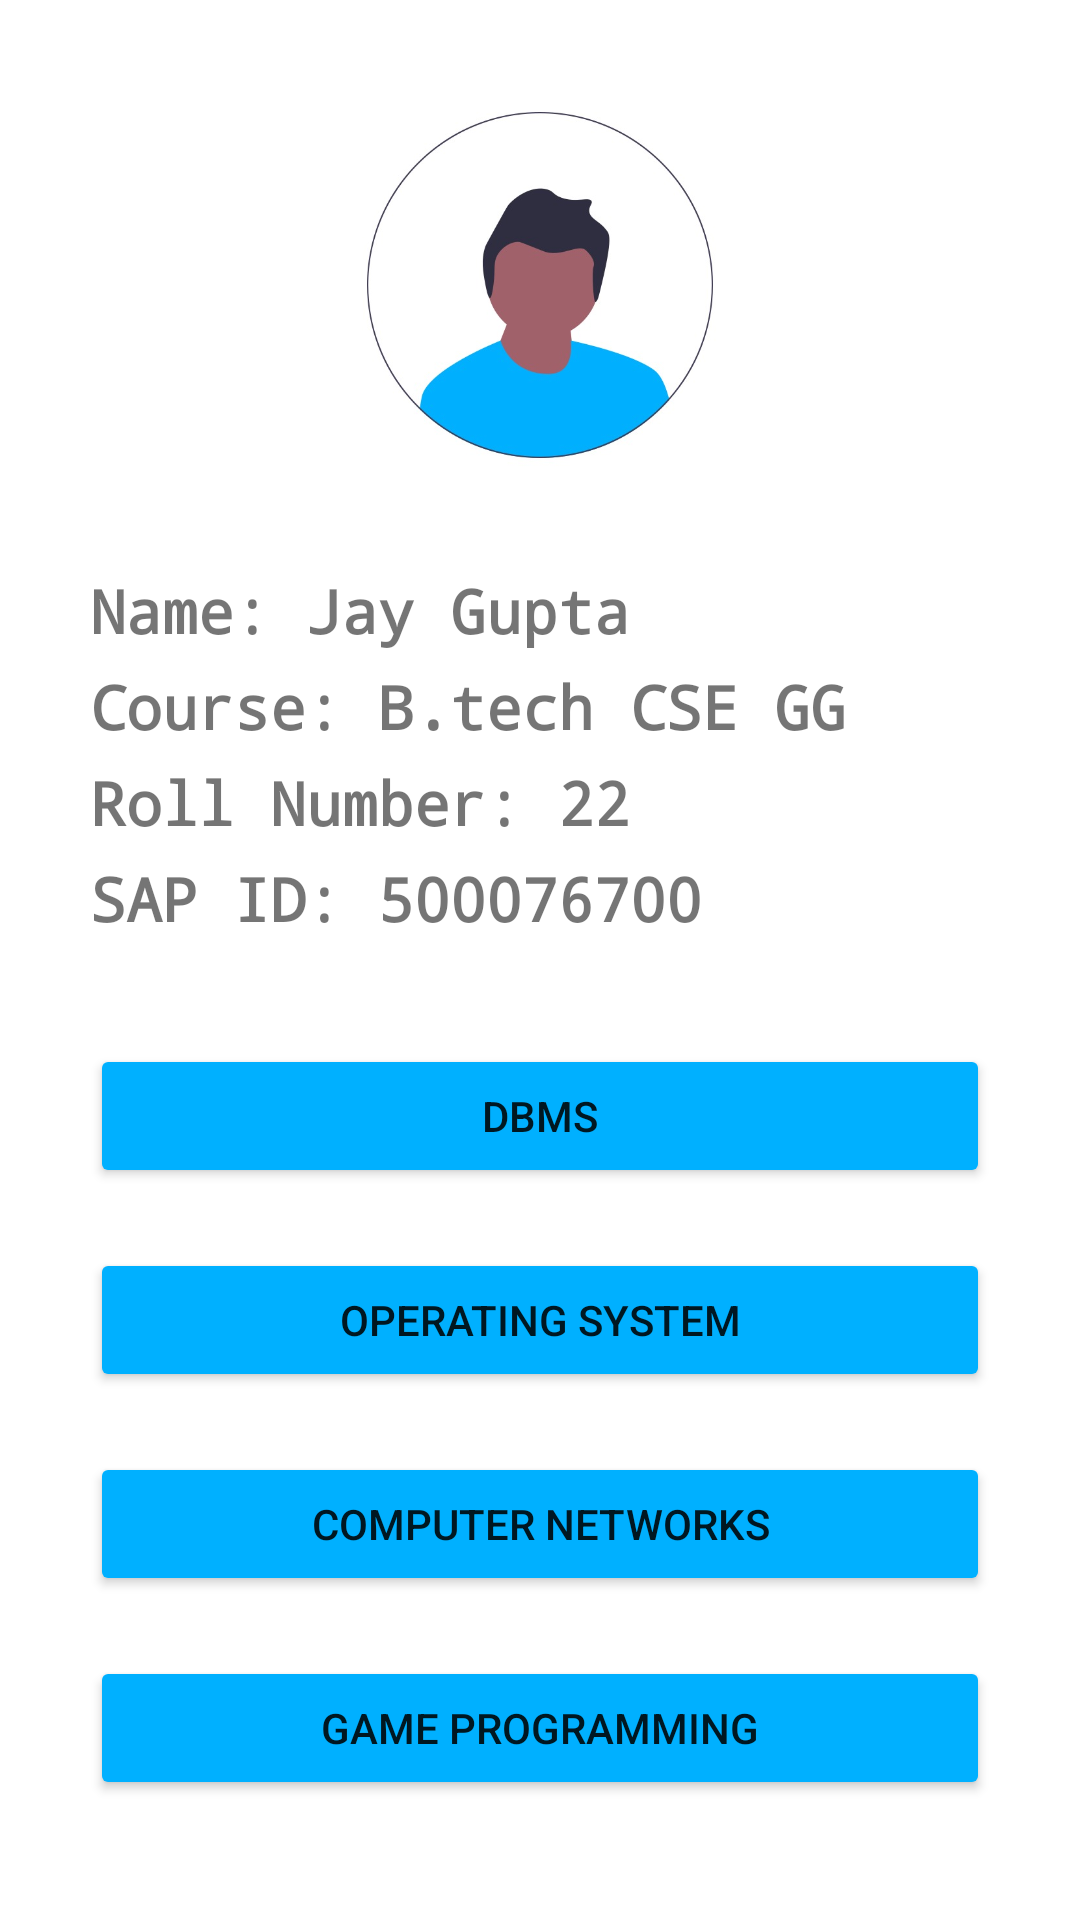

Screen size 1080 × 1920. Icon name, then its box in pixels as (x1, y1, x2, y2):
profilepic: (367, 112, 713, 458)
